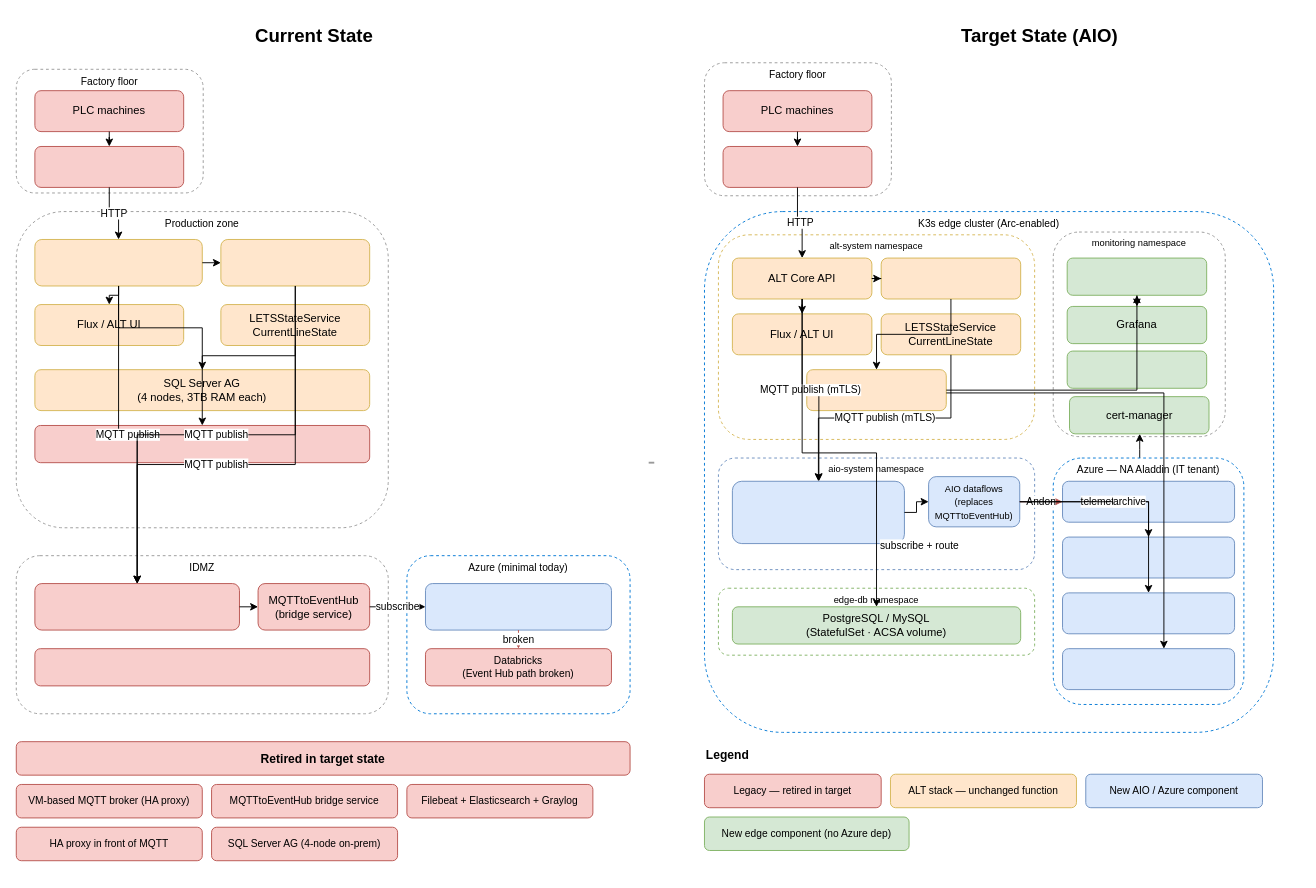
Some shapes in this 1316 by 888 pixel diagram are drawn without their labels. The shapes that lost their labels are listed below. From the top down, each one's centre as x and y in pixels, then its label:
the point at 109,166: Contoso gateway (Ignition)
the point at 797,166: Contoso gateway (Ignition — separate)
the point at 118,262: ALT Core API (4 nodes, HA proxy)
the point at 295,262: IoT Basics (logging + MQTT pub)
the point at 950,278: IoT Basics (OTEL_Only mode)
the point at 1136,276: Loki
the point at 1136,369: Alertmanager
the point at 876,390: OTEL Collector
the point at 202,444: Filebeat → ES → Graylog → Grafana
the point at 817,512: AIO MQTT broker (mTLS · MQTT v5 · single instance)
the point at 1148,501: Event Grid (Andon fast-path)
the point at 1148,557: Event Hubs (real-time telemetry)
the point at 136,606: VM-based MQTT broker (HA proxy clustered)
the point at 518,606: Event Hubs (partially working)
the point at 1148,613: ADLS Gen2 (archive + historical)
the point at 202,667: HA proxy (MQTT)
the point at 1148,669: Azure Monitor + Loki
